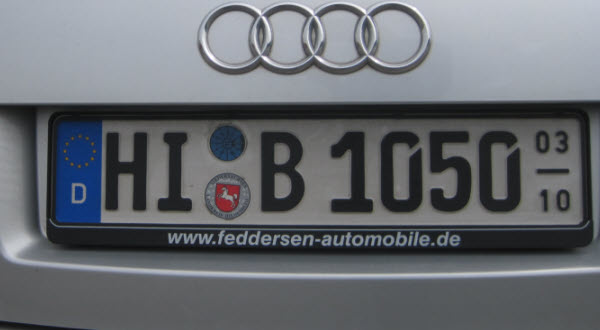license_plate: (48, 111, 587, 228)
